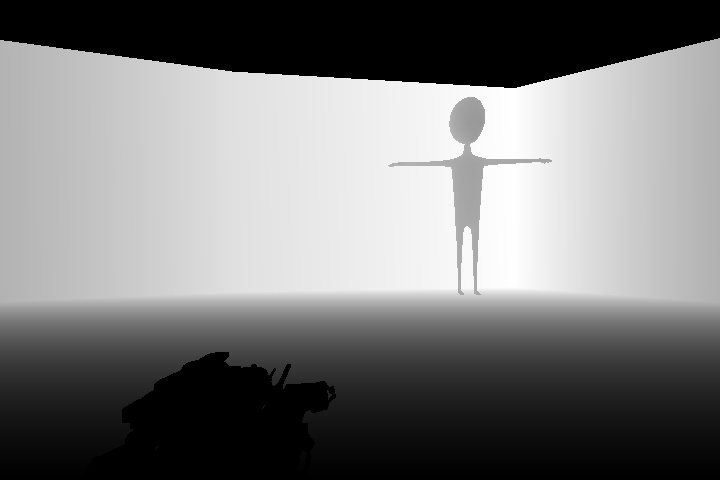alien: (387, 95, 553, 298)
